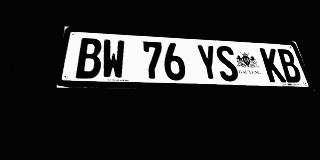6: (162, 42, 187, 80)
7: (141, 41, 165, 80)
B: (75, 38, 102, 79), (276, 49, 303, 83)
K: (259, 48, 286, 82)
S: (214, 45, 240, 81)
W: (101, 39, 125, 79)
Y: (195, 44, 221, 81)
